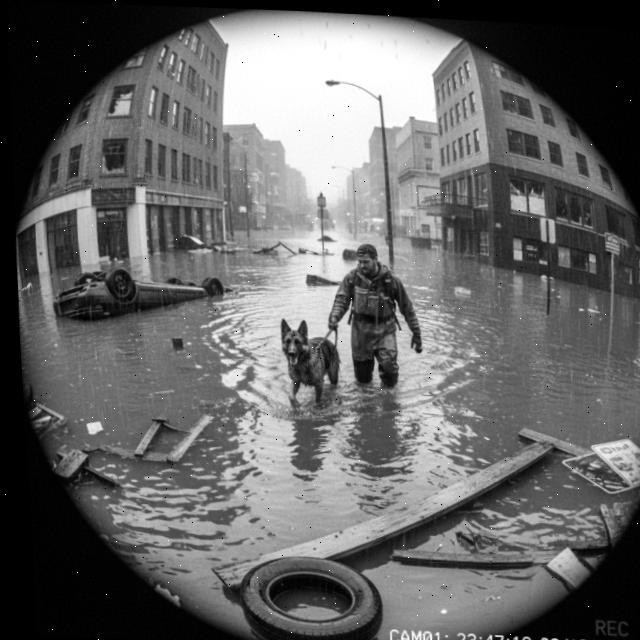civilian: (320, 235, 435, 398)
dog: (267, 310, 350, 417)
